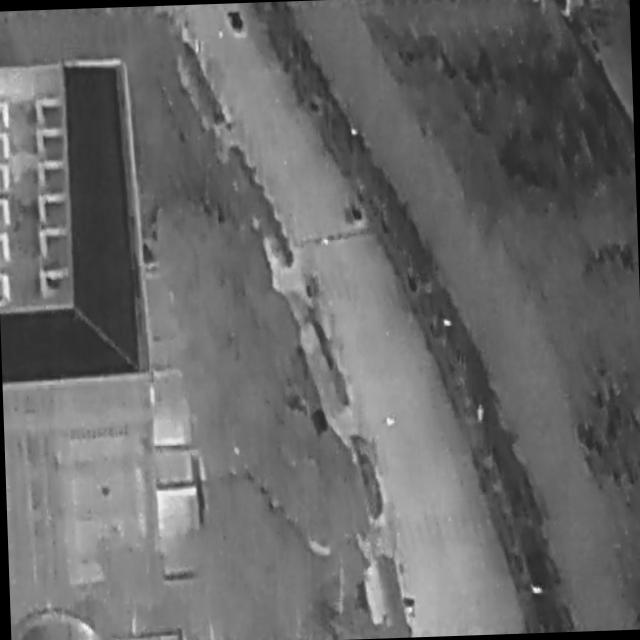person: (478, 405, 485, 421)
